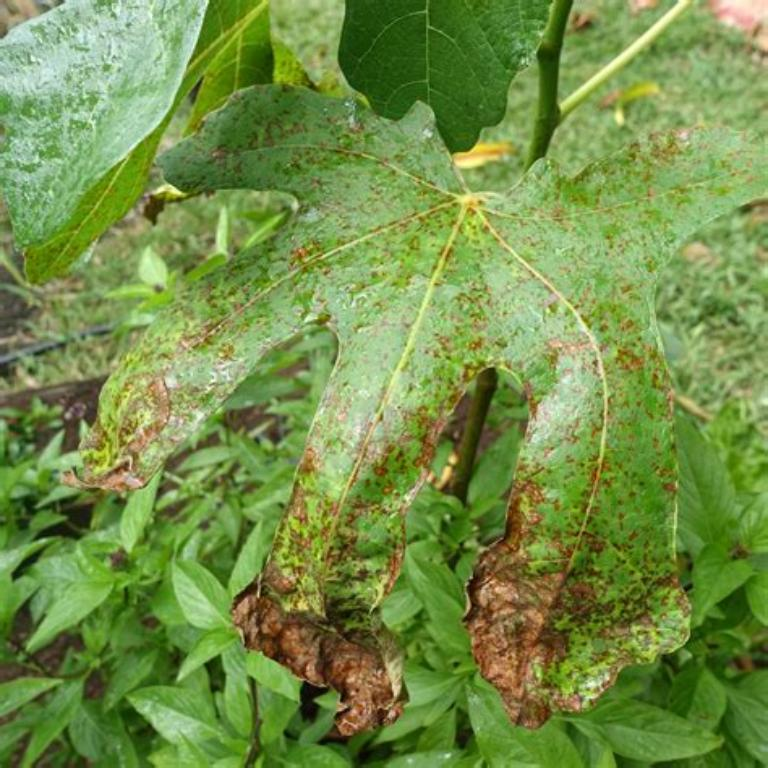blight: (224, 495, 414, 751), (456, 472, 594, 724)
